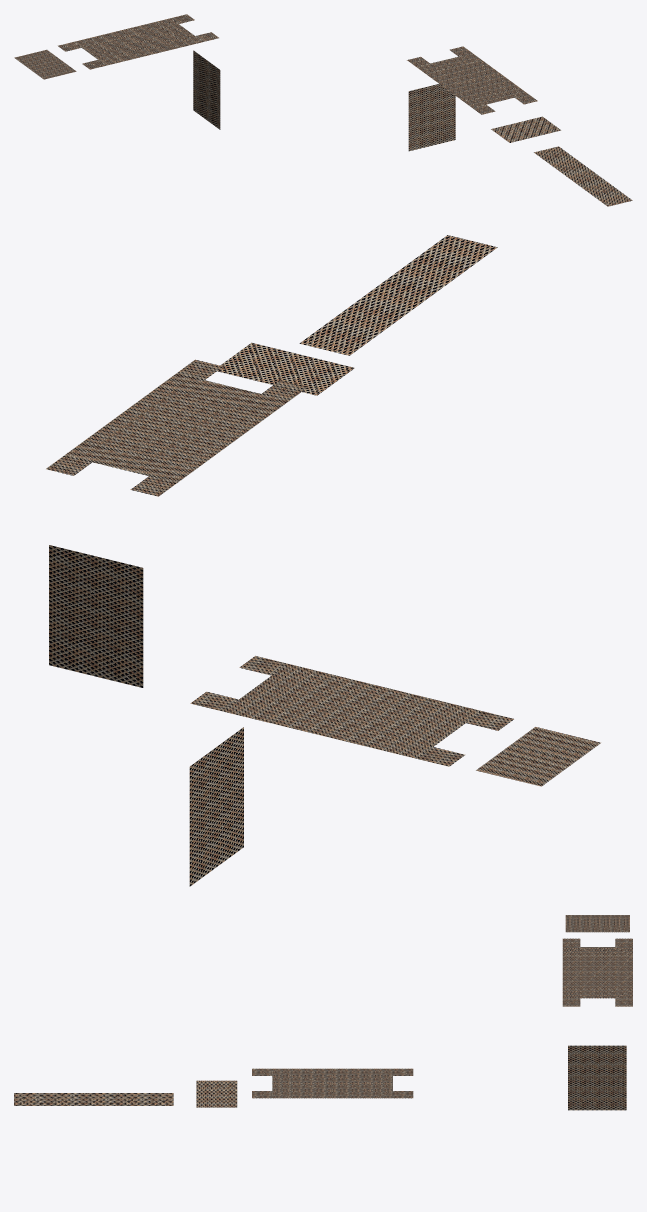
File: Bullet Station 56.fbx
3 renders of one model, top to bottom at view 1: azimuth 30°, elevation 25°; view 2: azimuth 150°, elevation 25°; view 3: azimuth 270°, elevation 25°, orthographic. The views are drawn at different scales.
Parts seen in each view (by area): view 1: STG08_PNW_03; view 2: STG08_PNW_03; view 3: STG08_PNW_03.
Boxes of the visible parts, x1,y1,x2,y2 form: STG08_PNW_03: [14, 14, 632, 206]; STG08_PNW_03: [46, 235, 600, 886]; STG08_PNW_03: [14, 915, 632, 1110].
Size of the model in its own units: 74000 by 19200 by 105637.
